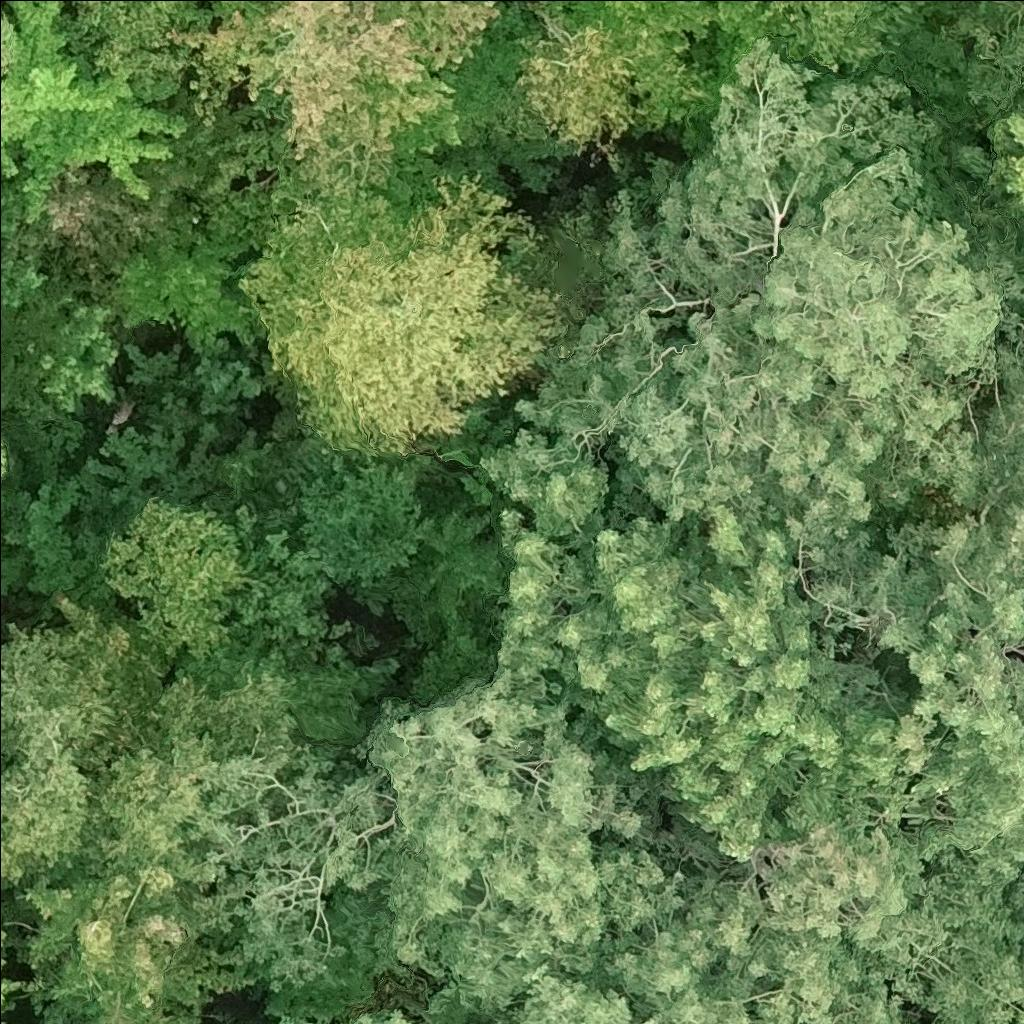crown: (484, 35, 1005, 565), (496, 506, 894, 862), (363, 670, 671, 1010), (238, 170, 558, 452), (830, 442, 1023, 885), (610, 816, 959, 1023), (170, 0, 504, 201), (0, 594, 165, 885), (200, 750, 396, 990), (0, 0, 188, 217), (100, 685, 286, 901), (14, 873, 211, 1023), (98, 497, 254, 661), (296, 455, 438, 590), (512, 14, 639, 154), (227, 530, 330, 643), (493, 963, 638, 1023), (771, 0, 871, 72), (994, 70, 1023, 220), (275, 1009, 415, 1023), (0, 7, 18, 101), (0, 981, 13, 1011), (0, 436, 8, 479), (0, 928, 5, 946), (0, 960, 2, 967)
